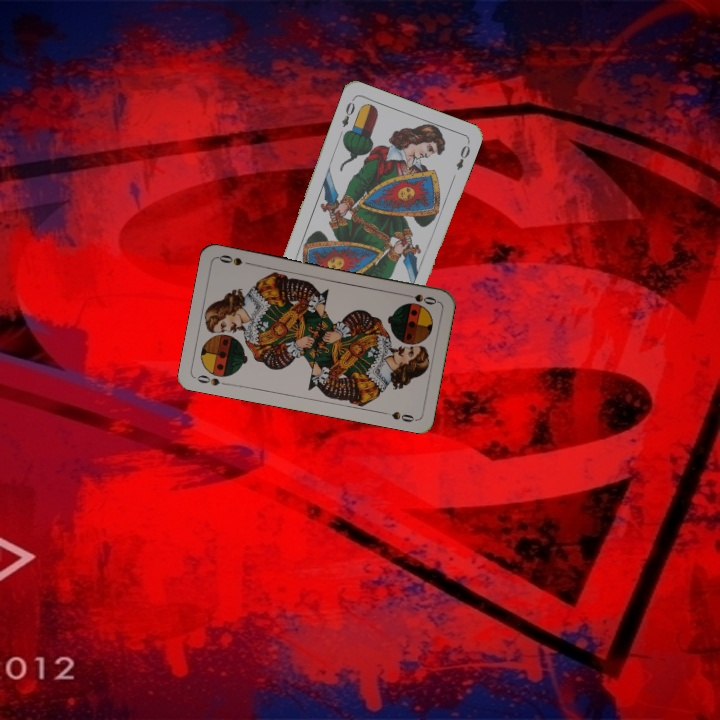EO: (338, 95, 357, 130)
SO: (399, 290, 440, 307), (193, 371, 232, 388)
